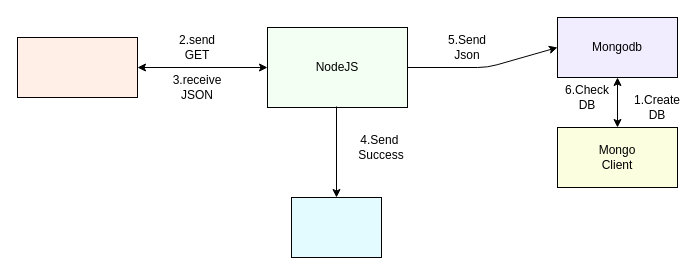
The diagram is 698 pixels wide and 275 high, and some of its shapes have lost their labels. Here are the shapes that lost their labels. From the top down, the centre of each, then its label:
[77,67]: REST API
[336,227]: Browser
